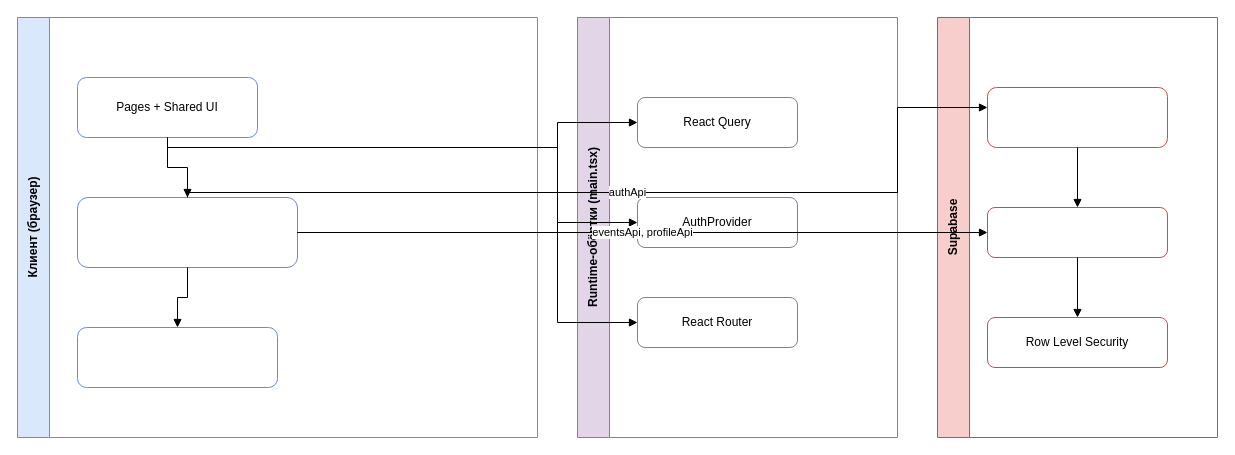
This 1235x455 diagram has some shape labels left out. Each missing label, with the centre of its shape:
"Auth (users, session)" goes at point (1077, 117).
"Features (auth, events, reports, profile)" goes at point (187, 232).
"lib / shared/lib / types" goes at point (177, 357).
"PostgreSQL" goes at point (1077, 232).
